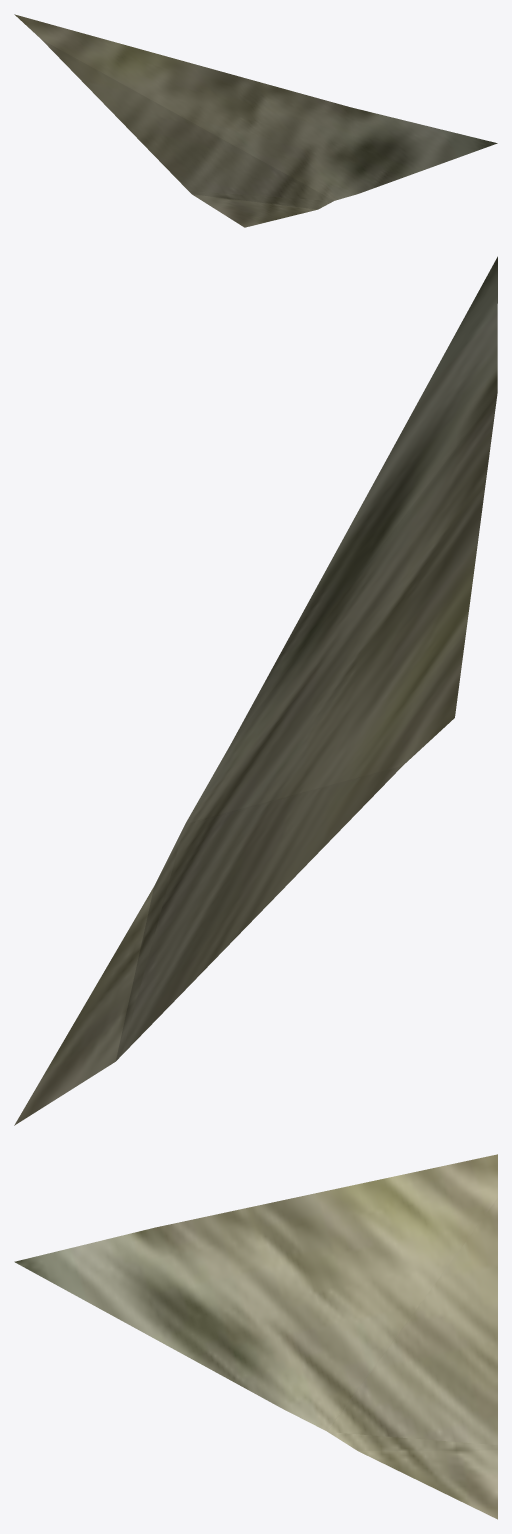
3 views of the same model, one above another, from view 1: azimuth 30°, elevation 25°; view 2: azimuth 150°, elevation 25°; view 3: azimuth 270°, elevation 25° (orthographic). The views are drawn at different scales.
Size of the model in its own units: 1.34 by 1.5 by 2.55.
1 material, 1 textured.
